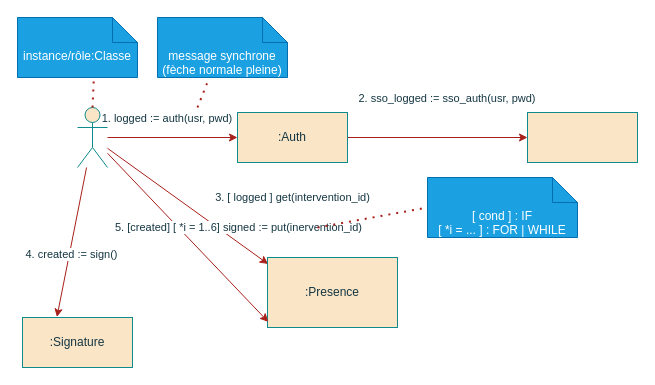
Some shapes in this 655 by 385 pixel diagram are drawn without their labels. The centre of each missing label's shape, as x and y in pixels:
":SSO" goes at [582,137].
"martin/participant:Customer" goes at [92,137].
